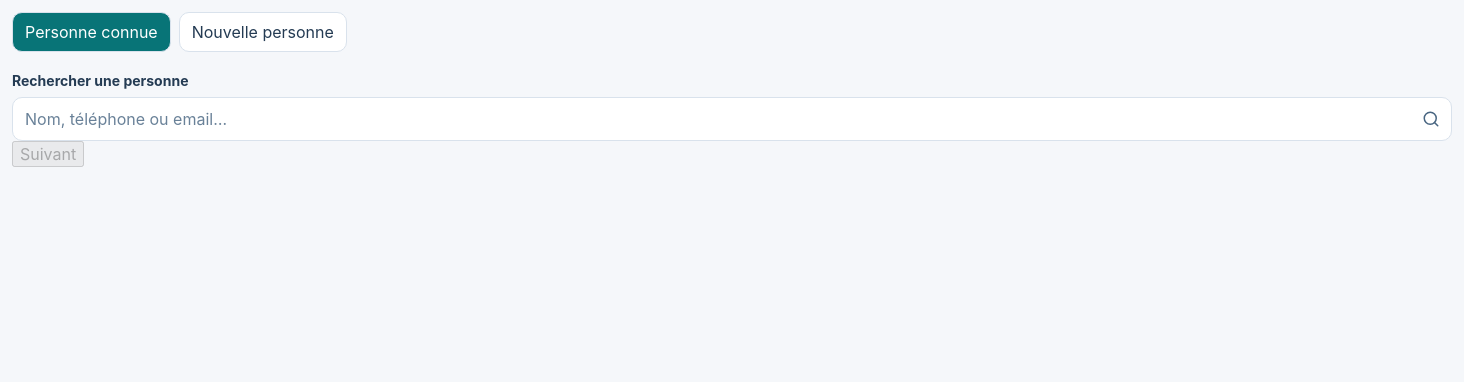
keeps the next action disabled when an optional email is malformed
The width and height of the screenshot is (1464, 382).
Click the button "Nouvelle personne" at (263,32), box [179,12,347,52]
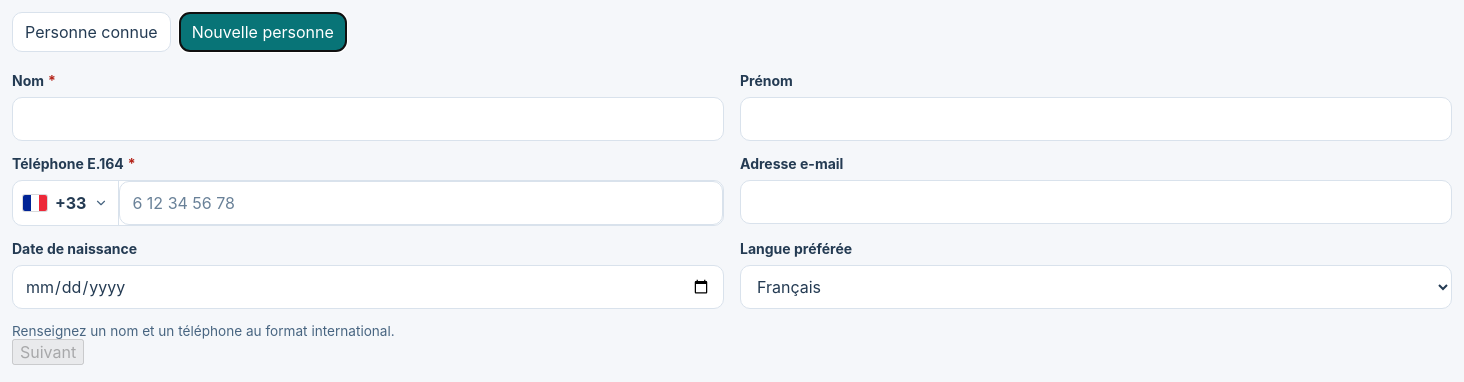
Type "Martin" into the field labelled "Nom *" at (368,119), box [12,97,724,141]
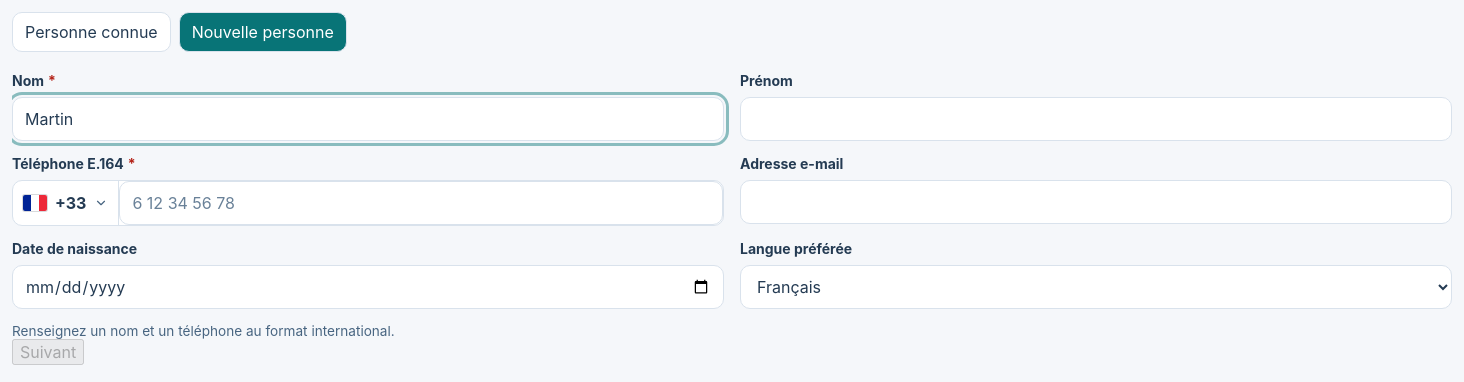
Type "06 12 34 56 78" into the field named "Téléphone E.164" at (421,203), box [119,181,723,225]
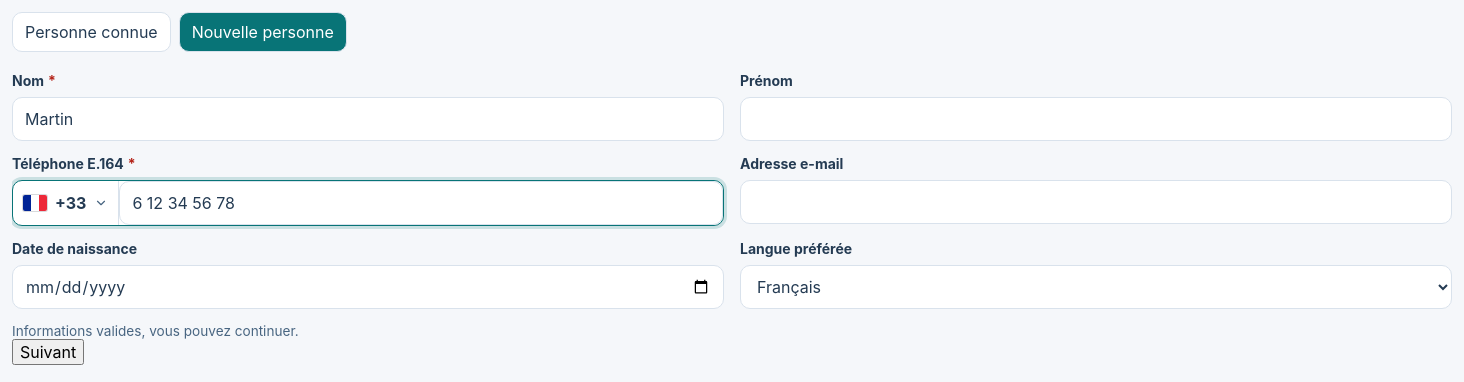
Type "incorrect" into the field labelled "Adresse e-mail" at (1096,202), box [740,180,1452,224]
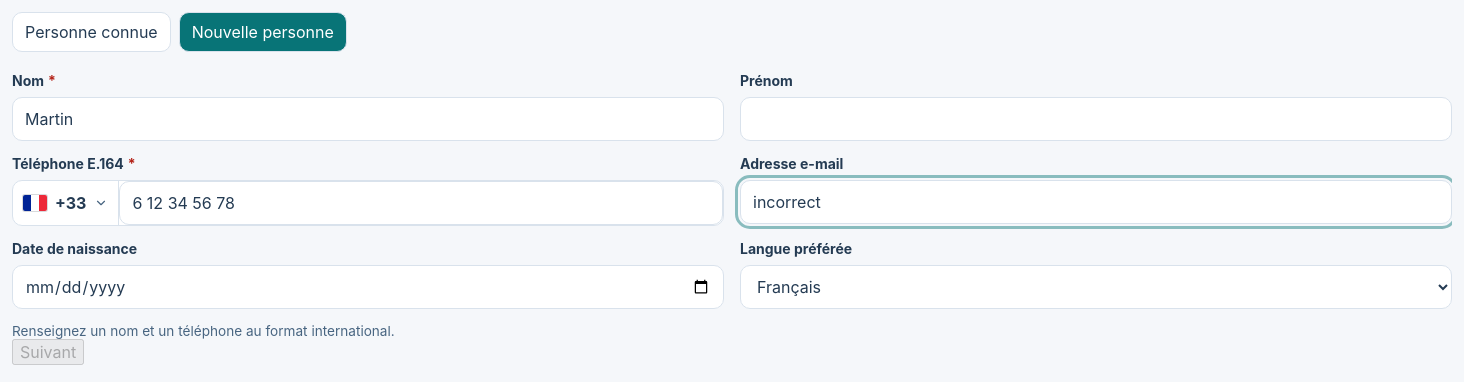
Result: the button "Suivant" is disabled at [12,339,84,365]
